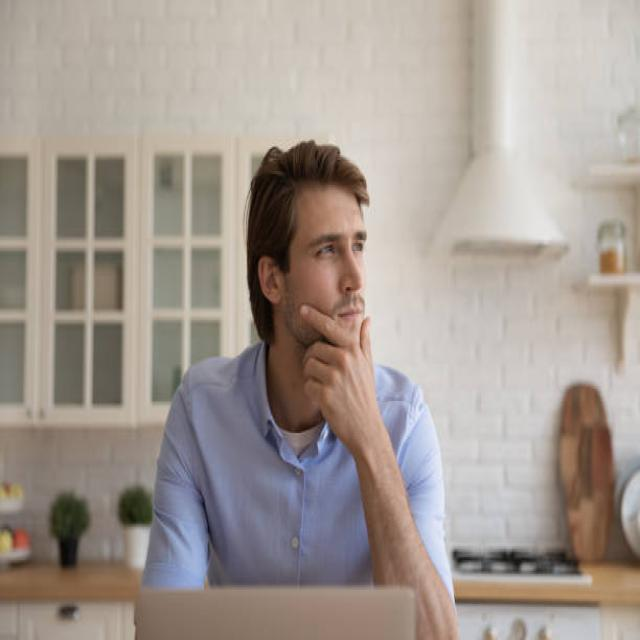Distracted: (292, 190, 370, 362)
